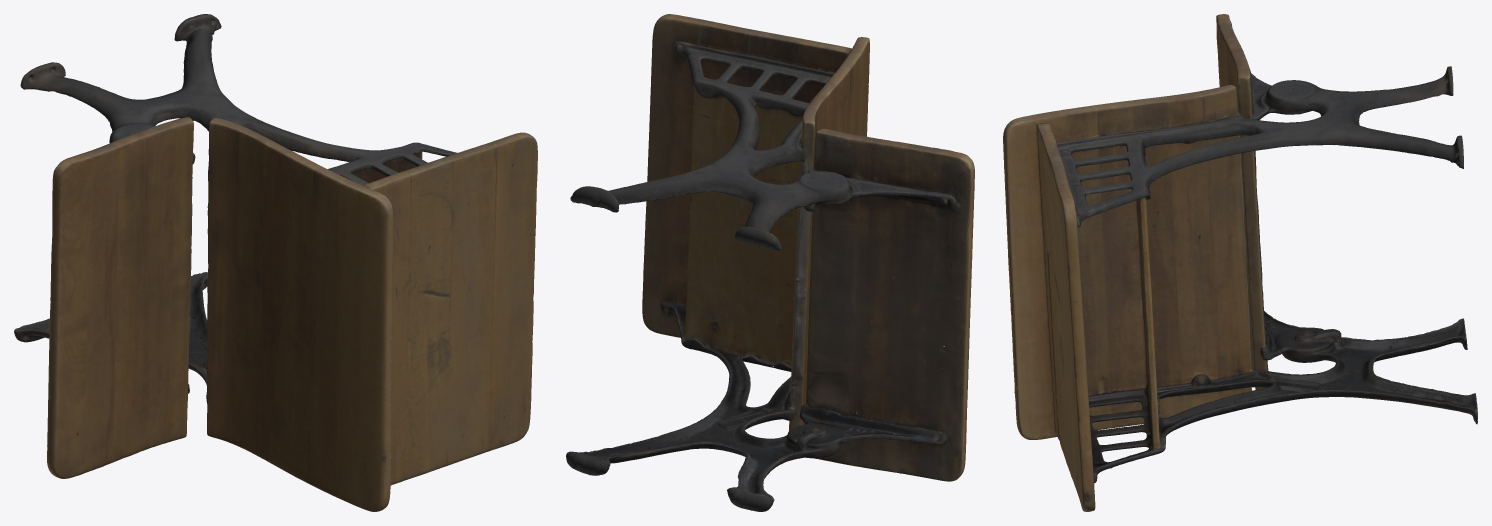
The model's file is preview.glb.
3 views of the same model, side by side, from view 1: azimuth 30°, elevation 25°; view 2: azimuth 150°, elevation 25°; view 3: azimuth 270°, elevation 25° (orthographic).
Bounding box in the file's own units: 0.6647 × 0.5218 × 0.6887.
1 material, 1 textured.
